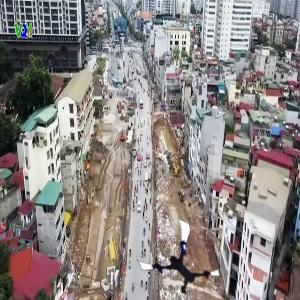drone: (140, 227, 214, 300)
